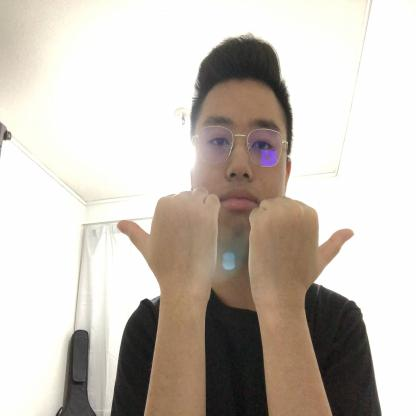left: (246, 193, 356, 312)
right: (118, 186, 219, 304)
